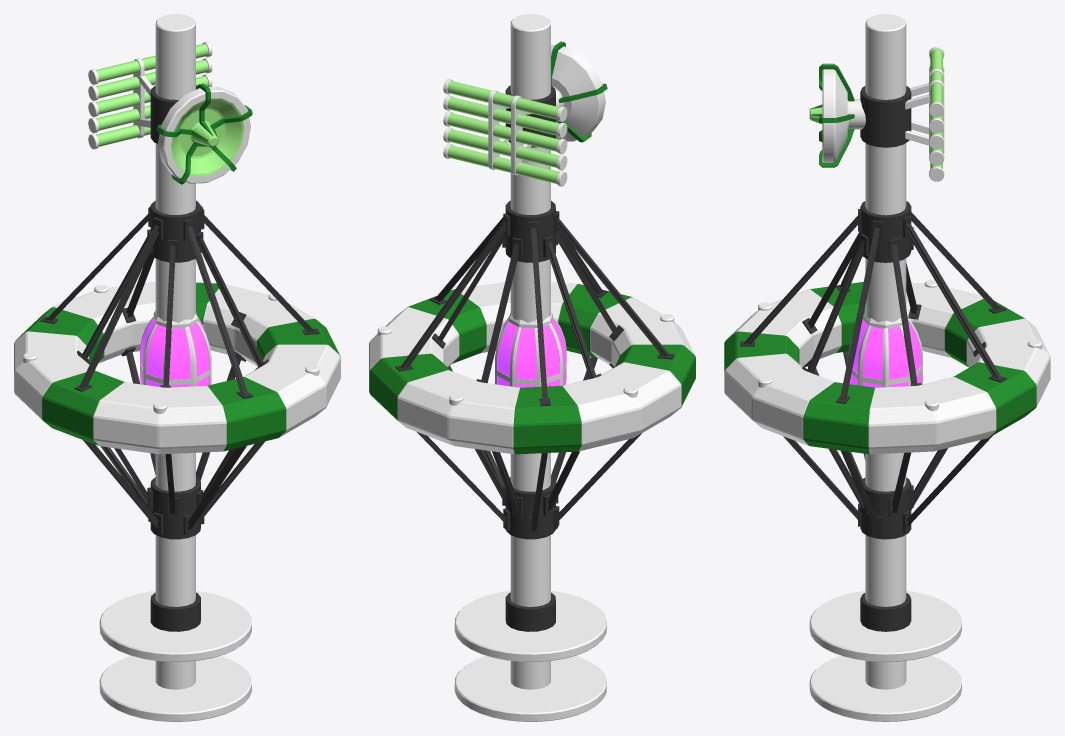
Rendered from Star Station.glb.
3 renders of one model, left to right at view 1: azimuth 30°, elevation 25°; view 2: azimuth 150°, elevation 25°; view 3: azimuth 270°, elevation 25°, orthographic.
Visible parts, largest first — view 1: Origin Star Station, Hanger, Star Station Posts, Central Pillar, Radar 1, Radar 2, Central Pillar Pivot, Warp Engine, Radar Mount, Radar 1 Bands, Warp Engine Shell, Radar 1 Bands 001; view 2: Origin Star Station, Hanger, Star Station Posts, Central Pillar, Radar 2, Central Pillar Pivot, Radar 1, Warp Engine, Radar Mount, Warp Engine Shell, Radar 1 Bands 001, Radar 1 Bands; view 3: Origin Star Station, Hanger, Central Pillar, Star Station Posts, Radar Mount, Central Pillar Pivot, Warp Engine, Radar 1, Radar 2, Warp Engine Shell, Radar 1 Bands 001, Radar 1 Bands.
Boxes of the visible parts, box(x1,y1,x2,y2) form: Origin Star Station: box(14, 281, 340, 454); Hanger: box(99, 590, 251, 721); Star Station Posts: box(40, 206, 319, 535); Central Pillar: box(155, 14, 195, 689); Radar 1: box(158, 86, 250, 183); Radar 2: box(88, 41, 212, 149); Central Pillar Pivot: box(150, 200, 200, 539); Warp Engine: box(140, 318, 209, 387); Radar Mount: box(150, 85, 200, 631); Radar 1 Bands: box(156, 83, 252, 184); Warp Engine Shell: box(140, 316, 211, 386); Radar 1 Bands 001: box(133, 58, 152, 138); Origin Star Station: box(369, 282, 695, 454); Hanger: box(454, 590, 606, 721); Star Station Posts: box(395, 211, 674, 536); Central Pillar: box(510, 14, 550, 689); Radar 2: box(443, 79, 567, 186); Central Pillar Pivot: box(505, 200, 555, 539); Radar 1: box(551, 45, 605, 141); Warp Engine: box(497, 318, 565, 387); Radar Mount: box(505, 85, 555, 631); Warp Engine Shell: box(495, 316, 566, 386); Radar 1 Bands 001: box(488, 90, 532, 175); Radar 1 Bands: box(551, 41, 607, 142); Origin Star Station: box(724, 282, 1050, 454); Hanger: box(809, 591, 961, 721); Central Pillar: box(865, 14, 906, 689); Star Station Posts: box(740, 205, 1006, 536); Radar Mount: box(860, 86, 911, 631); Central Pillar Pivot: box(860, 201, 911, 539); Warp Engine: box(850, 320, 921, 387); Radar 1: box(809, 63, 865, 162); Radar 2: box(929, 46, 944, 181); Warp Engine Shell: box(848, 319, 922, 387); Radar 1 Bands 001: box(905, 68, 944, 154); Radar 1 Bands: box(811, 64, 854, 167).
Size of what is drawn, in the model's own units: 258 by 600 by 257.
